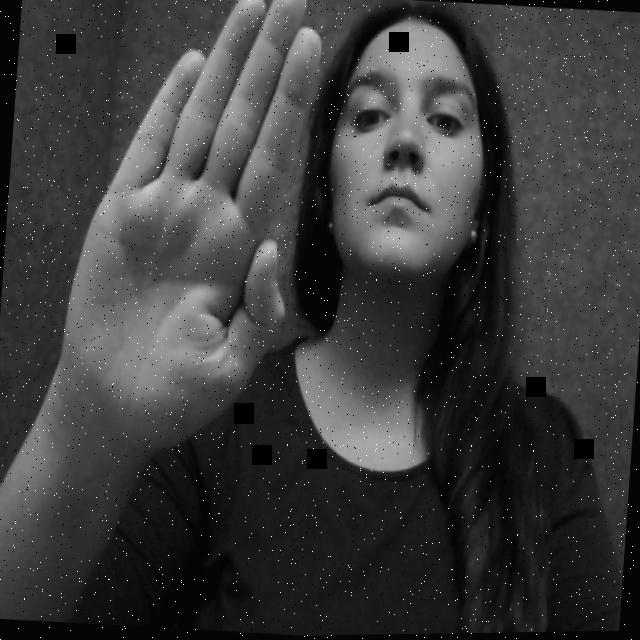Paper: (47, 6, 346, 419)
